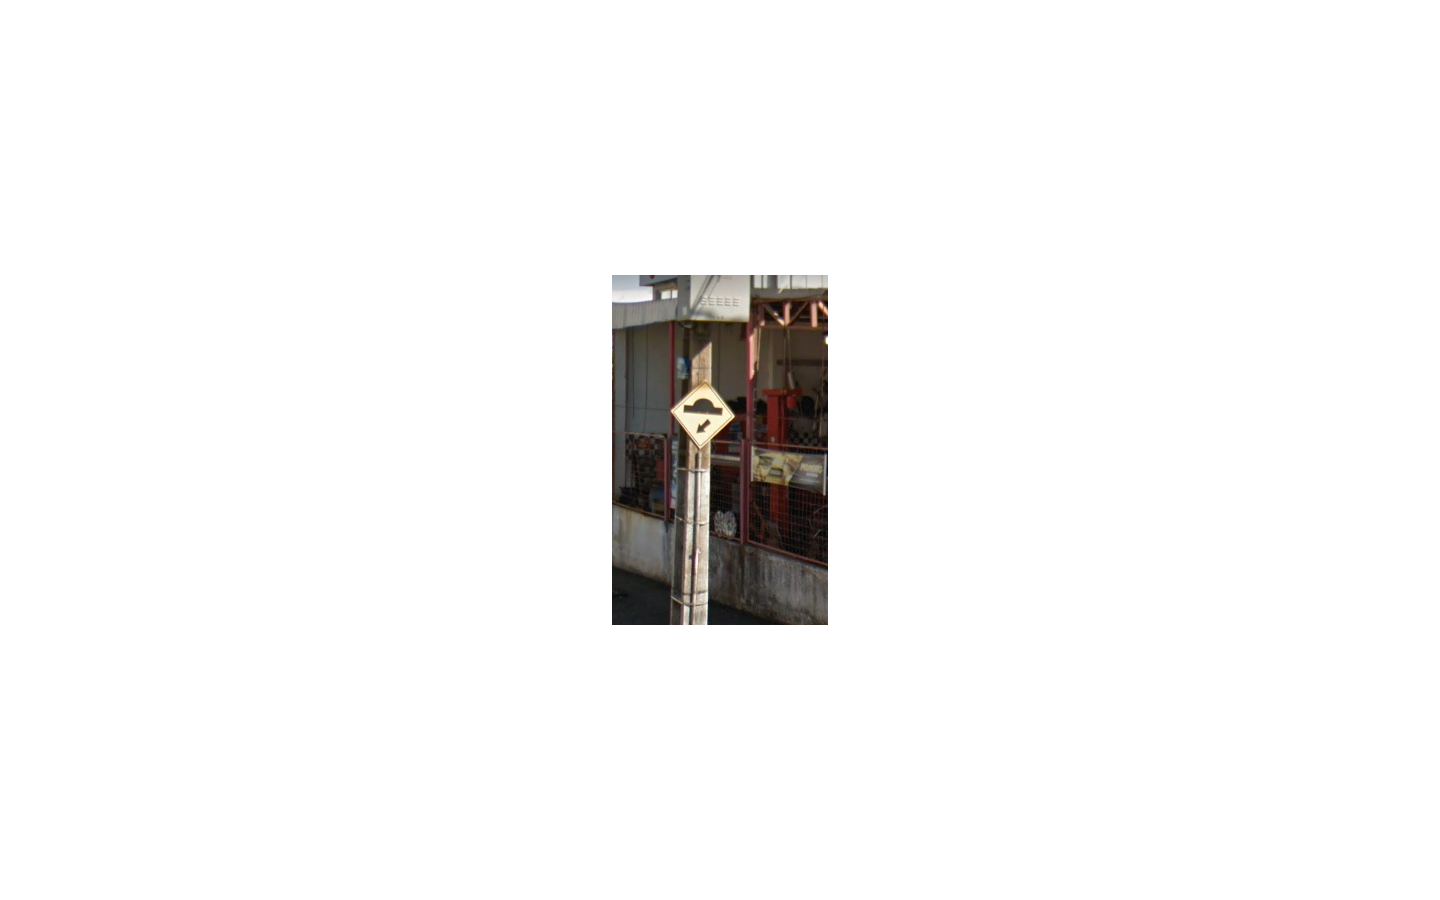lomb: (670, 379, 736, 448)
